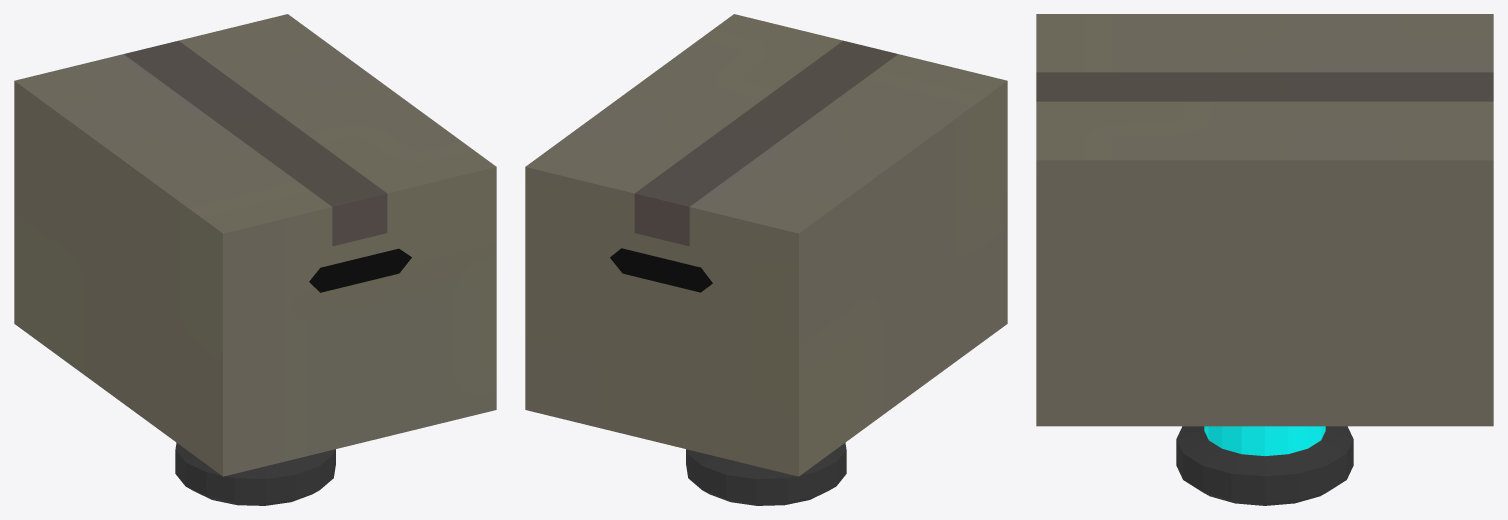
The model's file is item_cardboardBox-transformed.glb.
3 views of the same model, side by side, from view 1: azimuth 30°, elevation 25°; view 2: azimuth 150°, elevation 25°; view 3: azimuth 270°, elevation 25° (orthographic). The views are drawn at different scales.
Visible parts, largest first — view 1: Mesh, m; view 2: Mesh, m; view 3: Mesh, m.
Part boxes in pixels (left/top/right/bottom): Mesh: left=14, top=14, right=496, bottom=476; m: left=175, top=442, right=335, bottom=505; Mesh: left=525, top=14, right=1007, bottom=476; m: left=686, top=442, right=846, bottom=505; Mesh: left=1036, top=14, right=1493, bottom=426; m: left=1176, top=426, right=1353, bottom=505.
Bounding box in the file's own units: 3.9 × 4.8 × 5.16.
1 material, 1 textured.
